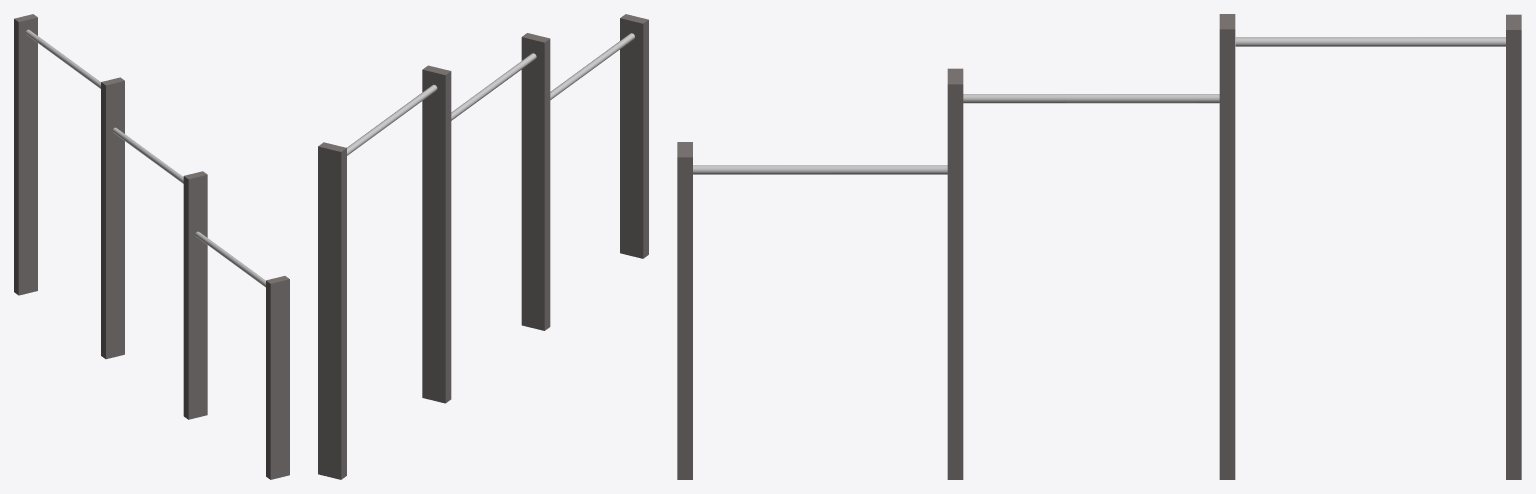
File: SM_Crossbar_01.fbx
The picture shows the model from 3 angles, left to right: view 1: azimuth 30°, elevation 25°; view 2: azimuth 150°, elevation 25°; view 3: azimuth 270°, elevation 25°; orthographic projection. The views are drawn at different scales.
Parts seen in each view (by area): view 1: SM_Crossbar_01; view 2: SM_Crossbar_01; view 3: SM_Crossbar_01.
Part boxes in pixels (left/top/right/bottom): SM_Crossbar_01: left=14, top=14, right=289, bottom=479; SM_Crossbar_01: left=318, top=14, right=648, bottom=479; SM_Crossbar_01: left=677, top=14, right=1521, bottom=479.
Bounding box in the file's own units: 21.8 × 296 × 503.
Materials: 1 (1 with a texture image).
